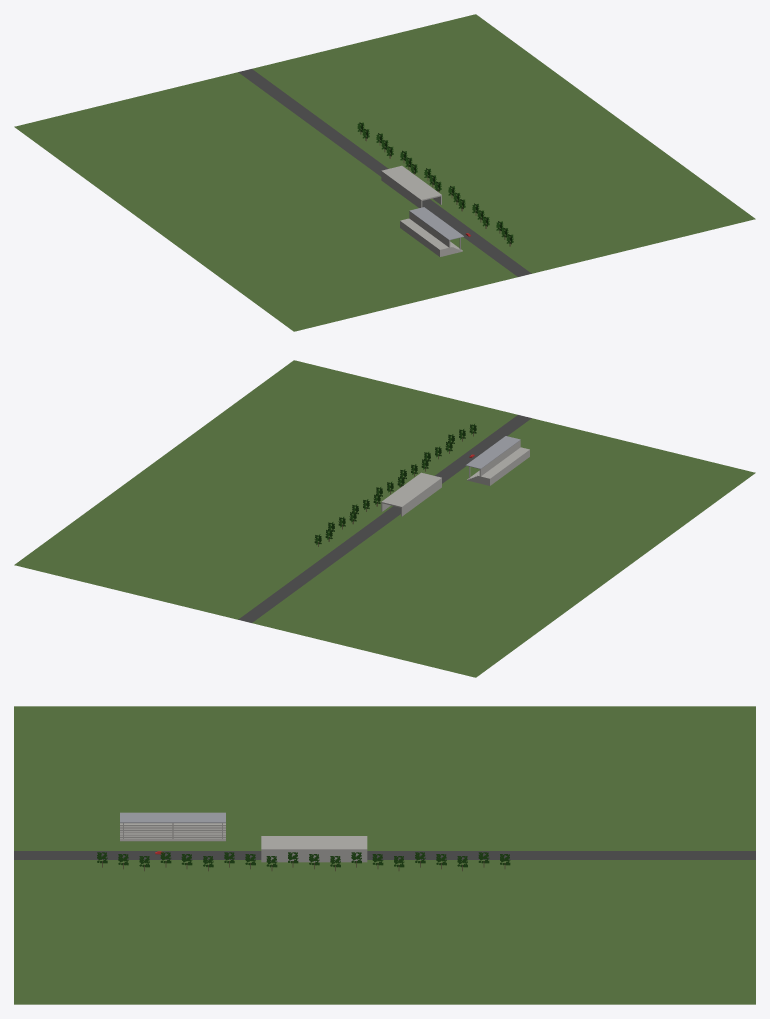
The model's file is ddgi_track.gltf.
3 views of the same model, one above another, from view 1: azimuth 30°, elevation 25°; view 2: azimuth 150°, elevation 25°; view 3: azimuth 270°, elevation 25° (orthographic). The views are drawn at different scales.
Visible parts, largest first — view 1: grass, asphalt, concrete, leaves, roof; view 2: grass, asphalt, concrete, leaves, roof; view 3: grass, asphalt, concrete, leaves, roof.
Part boxes in pixels (x1,y1,x2,y2): grass: [14, 14, 755, 331]; asphalt: [238, 69, 531, 276]; concrete: [381, 165, 462, 256]; leaves: [357, 122, 513, 244]; roof: [409, 207, 463, 240]; grass: [14, 360, 755, 677]; asphalt: [238, 415, 531, 622]; concrete: [381, 440, 529, 516]; leaves: [314, 424, 476, 544]; roof: [465, 436, 520, 469]; grass: [14, 706, 755, 1004]; asphalt: [14, 851, 755, 859]; concrete: [120, 823, 367, 862]; leaves: [97, 852, 510, 867]; roof: [120, 812, 225, 822].
Bounding box in the file's own units: 400 × 12.4 × 420.
7 materials, 1 textured.
